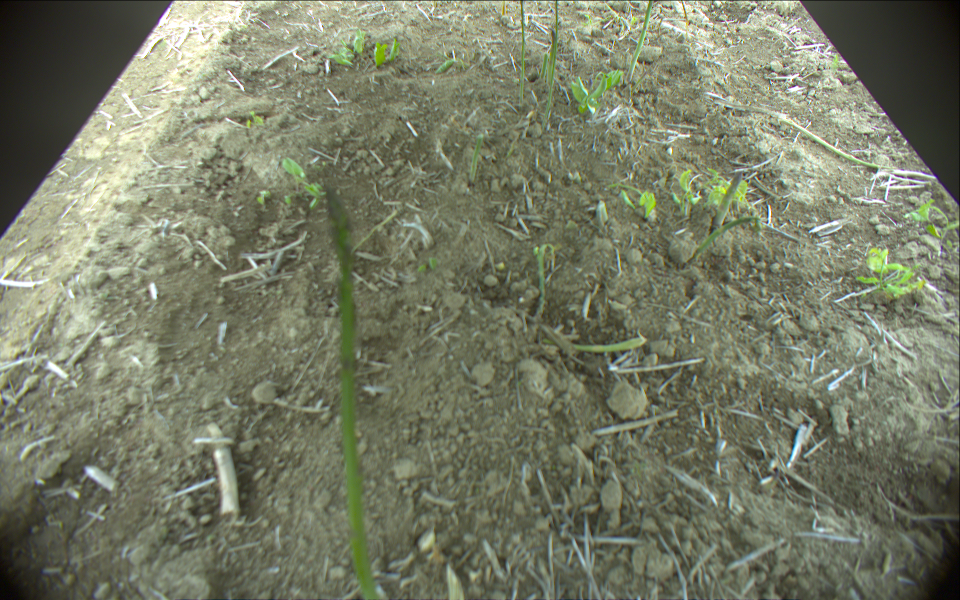aspa: (321, 187, 383, 600), (733, 100, 893, 174), (691, 216, 765, 261), (624, 1, 656, 83), (709, 167, 745, 231), (558, 335, 647, 358), (531, 243, 557, 321), (547, 1, 560, 97), (515, 1, 526, 103), (535, 49, 550, 85)
